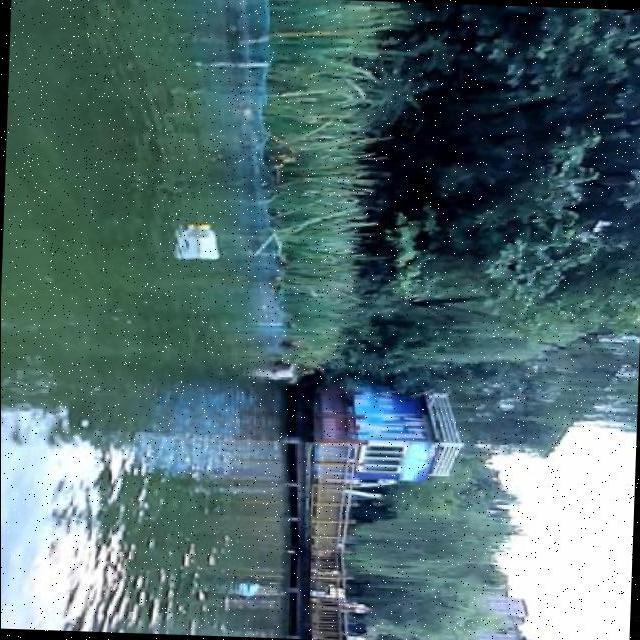Bottle: (188, 218, 228, 266)
